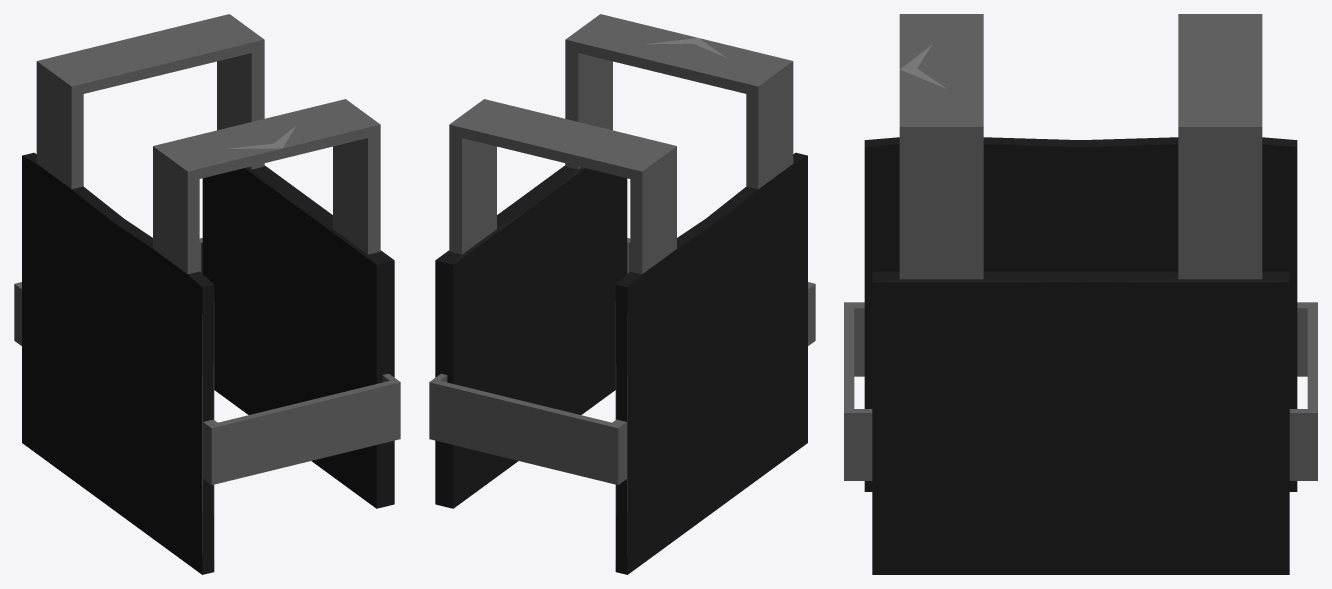
The model's file is TestArmor.fbx.
3 renders of one model, left to right at view 1: azimuth 30°, elevation 25°; view 2: azimuth 150°, elevation 25°; view 3: azimuth 270°, elevation 25°, orthographic. The views are drawn at different scales.
Parts seen in each view (by area): view 1: PlateCarrier; view 2: PlateCarrier; view 3: PlateCarrier.
Boxes of the visible parts, x1,y1,x2,y2 form: PlateCarrier: (14, 14, 400, 574); PlateCarrier: (429, 14, 815, 574); PlateCarrier: (844, 14, 1317, 574).
Size of the model in its own units: 1.18 by 2.27 by 2.07.
Materials: 1 (1 with a texture image).
